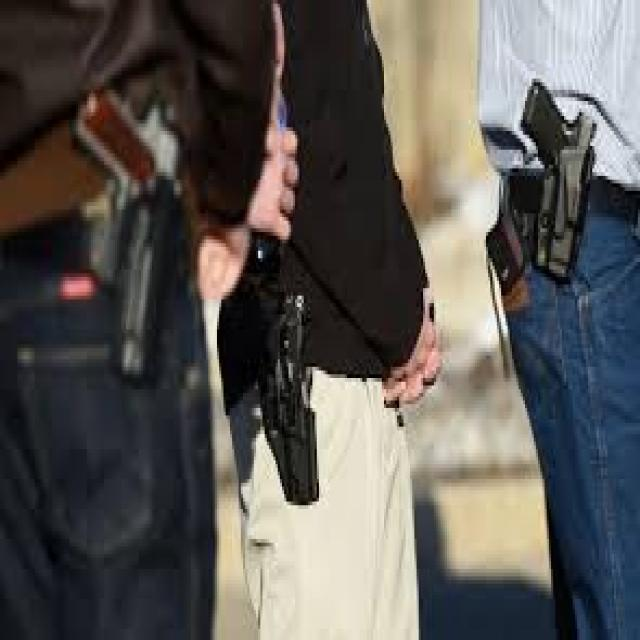gun: (67, 67, 197, 398), (238, 245, 336, 510), (510, 63, 602, 297)
